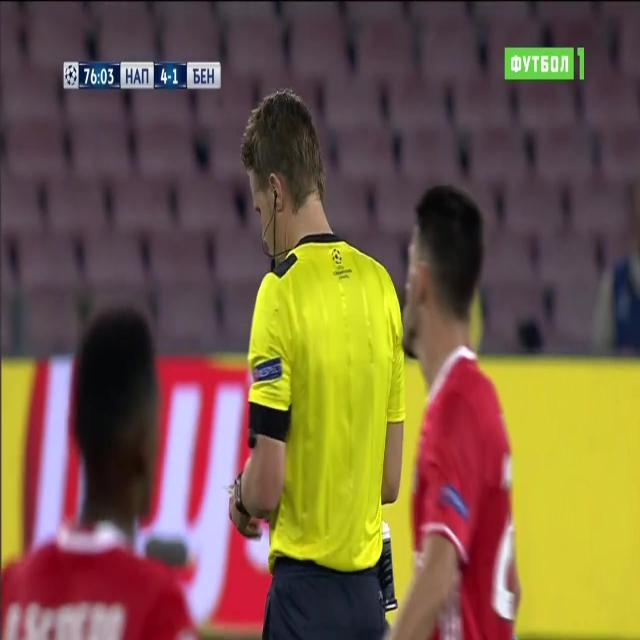Player: (2, 304, 194, 638), (394, 184, 526, 640)
Referee: (225, 90, 406, 640)
